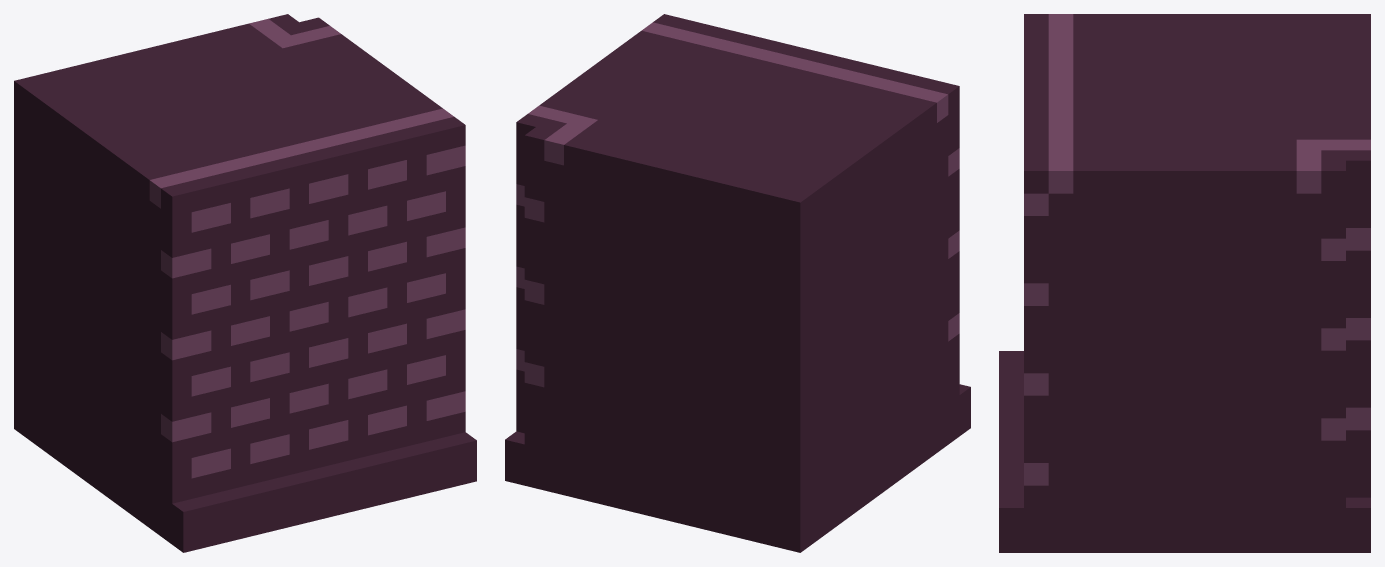
Rendered from dungeon_c_a_outer_wall_segment_d_flipped.obj.
3 views of the same model, side by side, from view 1: azimuth 30°, elevation 25°; view 2: azimuth 150°, elevation 25°; view 3: azimuth 270°, elevation 25° (orthographic). The views are drawn at different scales.
Bounding box in the file's own units: 1.5 × 1.7 × 1.5.
1 material, 1 textured.
